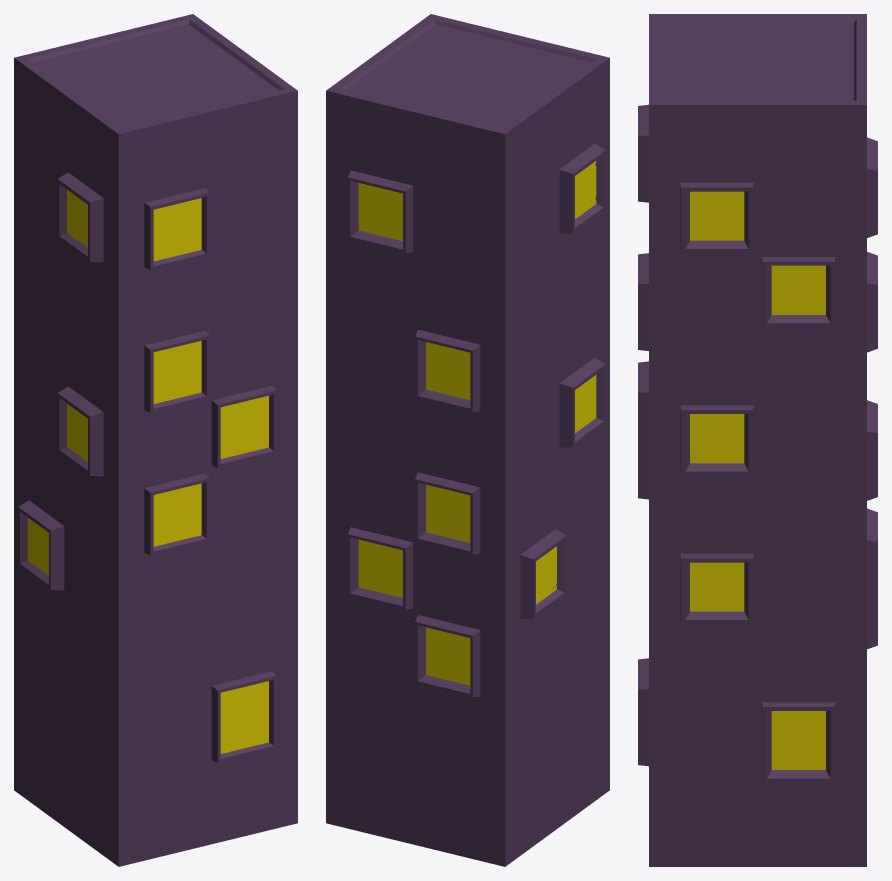
File: building.fbx
3 renders of one model, left to right at view 1: azimuth 30°, elevation 25°; view 2: azimuth 150°, elevation 25°; view 3: azimuth 270°, elevation 25°, orthographic. The views are drawn at different scales.
Visible parts, largest first — view 1: Cube; view 2: Cube; view 3: Cube.
Part boxes in pixels (x1,y1,x2,y2): Cube: (14, 14, 297, 866); Cube: (326, 14, 609, 866); Cube: (638, 14, 877, 866).
Size of the model in its own units: 925 by 3248 by 927.
